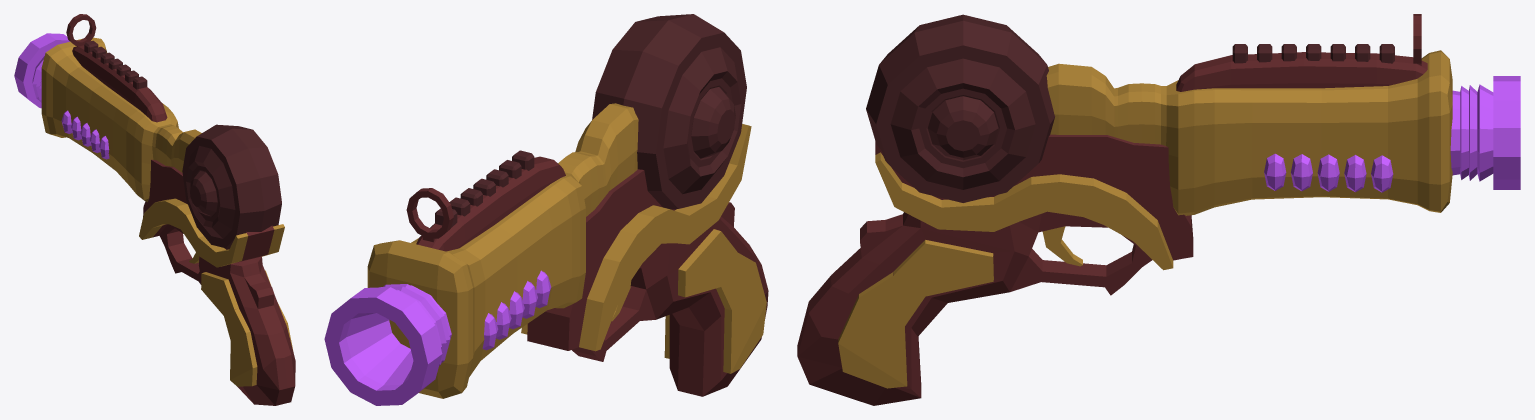
Rendered from rayon_lev.glb.
The picture shows the model from 3 angles, left to right: view 1: azimuth 30°, elevation 25°; view 2: azimuth 150°, elevation 25°; view 3: azimuth 270°, elevation 25°; orthographic projection. The views are drawn at different scales.
Parts seen in each view (by area): view 1: RayGun_1, RayGun_3, RayGun_4, RayGun_2; view 2: RayGun_1, RayGun_4, RayGun_3, RayGun_2; view 3: RayGun_1, RayGun_3, RayGun_4, RayGun_2.
Part boxes in pixels (x1,y1,x2,y2): RayGun_1: [41, 37, 293, 386]; RayGun_3: [66, 14, 295, 405]; RayGun_4: [84, 40, 281, 248]; RayGun_2: [14, 33, 109, 159]; RayGun_1: [367, 103, 766, 398]; RayGun_4: [435, 14, 746, 227]; RayGun_3: [406, 156, 768, 396]; RayGun_2: [324, 270, 551, 405]; RayGun_1: [838, 50, 1452, 388]; RayGun_3: [797, 14, 1427, 405]; RayGun_4: [866, 14, 1394, 202]; RayGun_2: [1264, 76, 1520, 192].
Bounding box in the file's own units: 0.5932 × 1.97 × 3.36.
